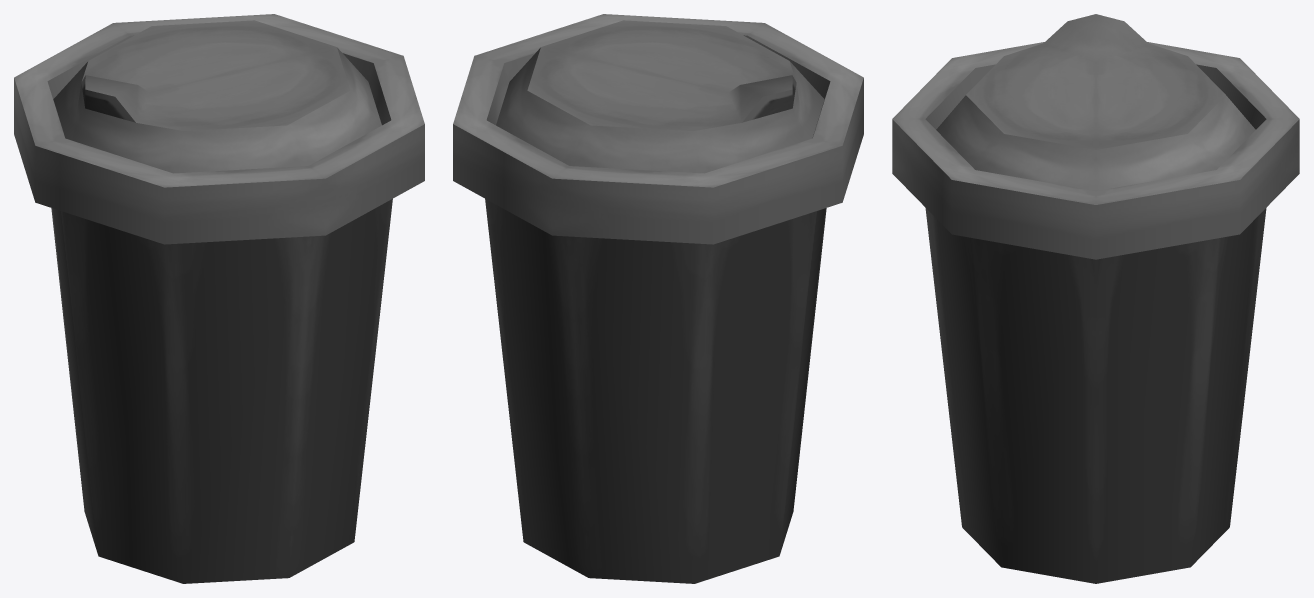
The model's file is CoffeeCup.obj.
3 views of the same model, side by side, from view 1: azimuth 30°, elevation 25°; view 2: azimuth 150°, elevation 25°; view 3: azimuth 270°, elevation 25° (orthographic). The views are drawn at different scales.
Parts seen in each view (by area): view 1: pCylinder4; view 2: pCylinder4; view 3: pCylinder4.
Part boxes in pixels (x1,y1,x2,y2): pCylinder4: [14, 14, 424, 583]; pCylinder4: [453, 14, 863, 583]; pCylinder4: [892, 14, 1299, 583].
Bounding box in the file's own units: 0.6462 × 0.7883 × 0.6462.
